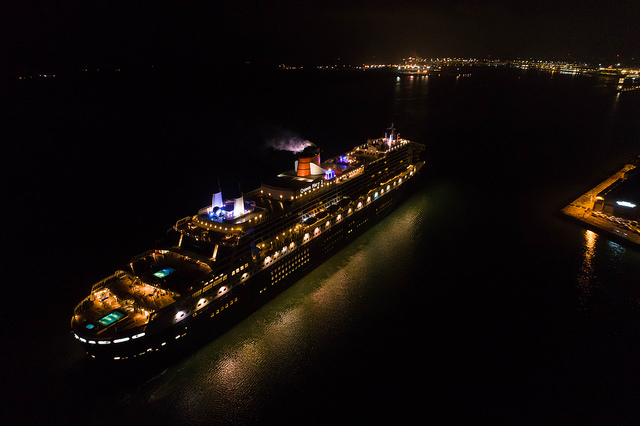cruise_ship: (69, 123, 439, 365)
